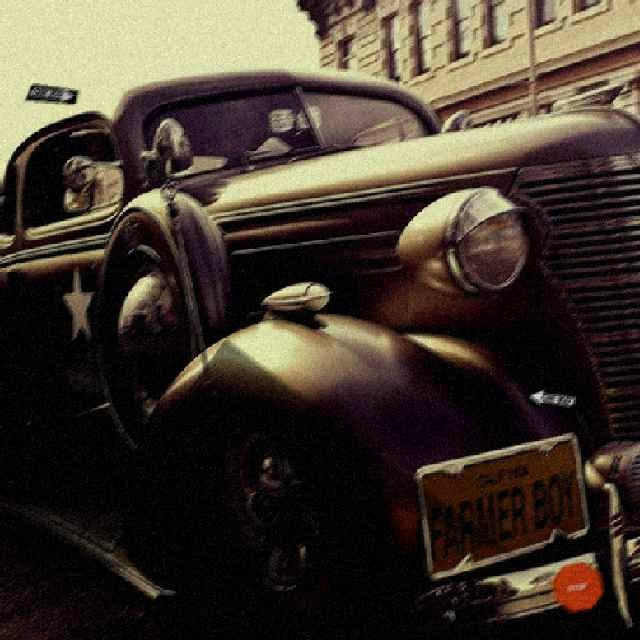ONE_WAY_ left: (524, 386, 577, 409)
ONE_WAY_ right: (24, 82, 77, 103)
STOP: (550, 560, 603, 611)
